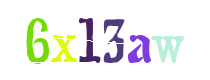3: (65, 0, 145, 80)
6: (0, 0, 80, 80)
A: (94, 0, 174, 80)
L: (62, 0, 142, 80)
W: (98, 0, 178, 80)
X: (23, 0, 103, 80)
